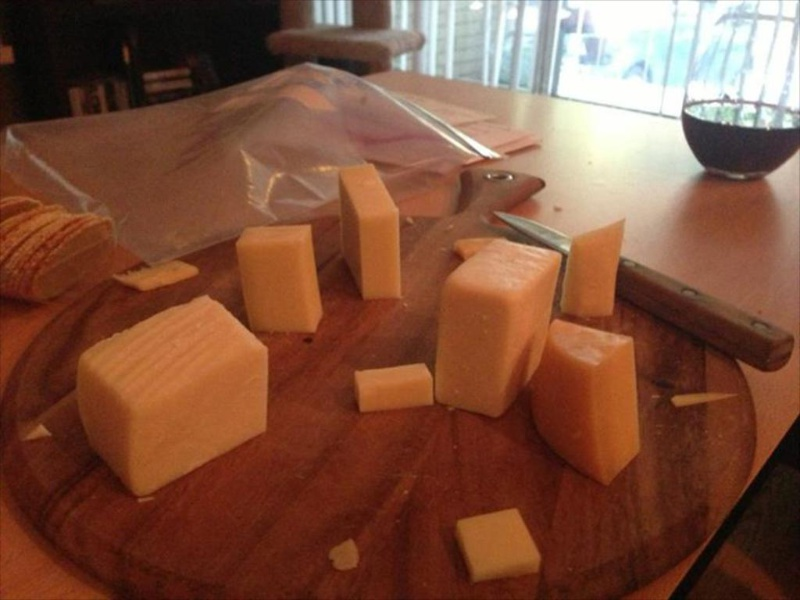knife: (489, 205, 796, 372)
